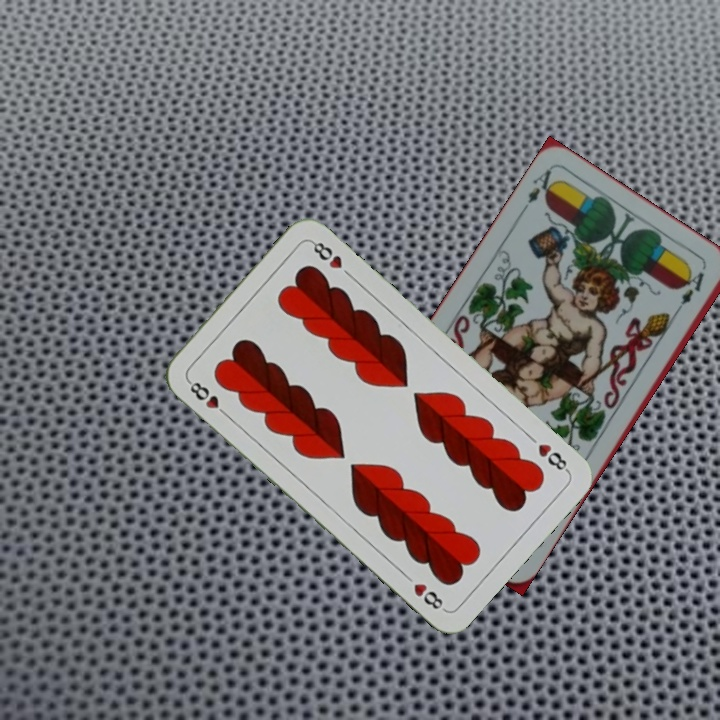EA: (515, 165, 560, 218)
H8: (184, 376, 232, 420), (533, 439, 572, 475)
